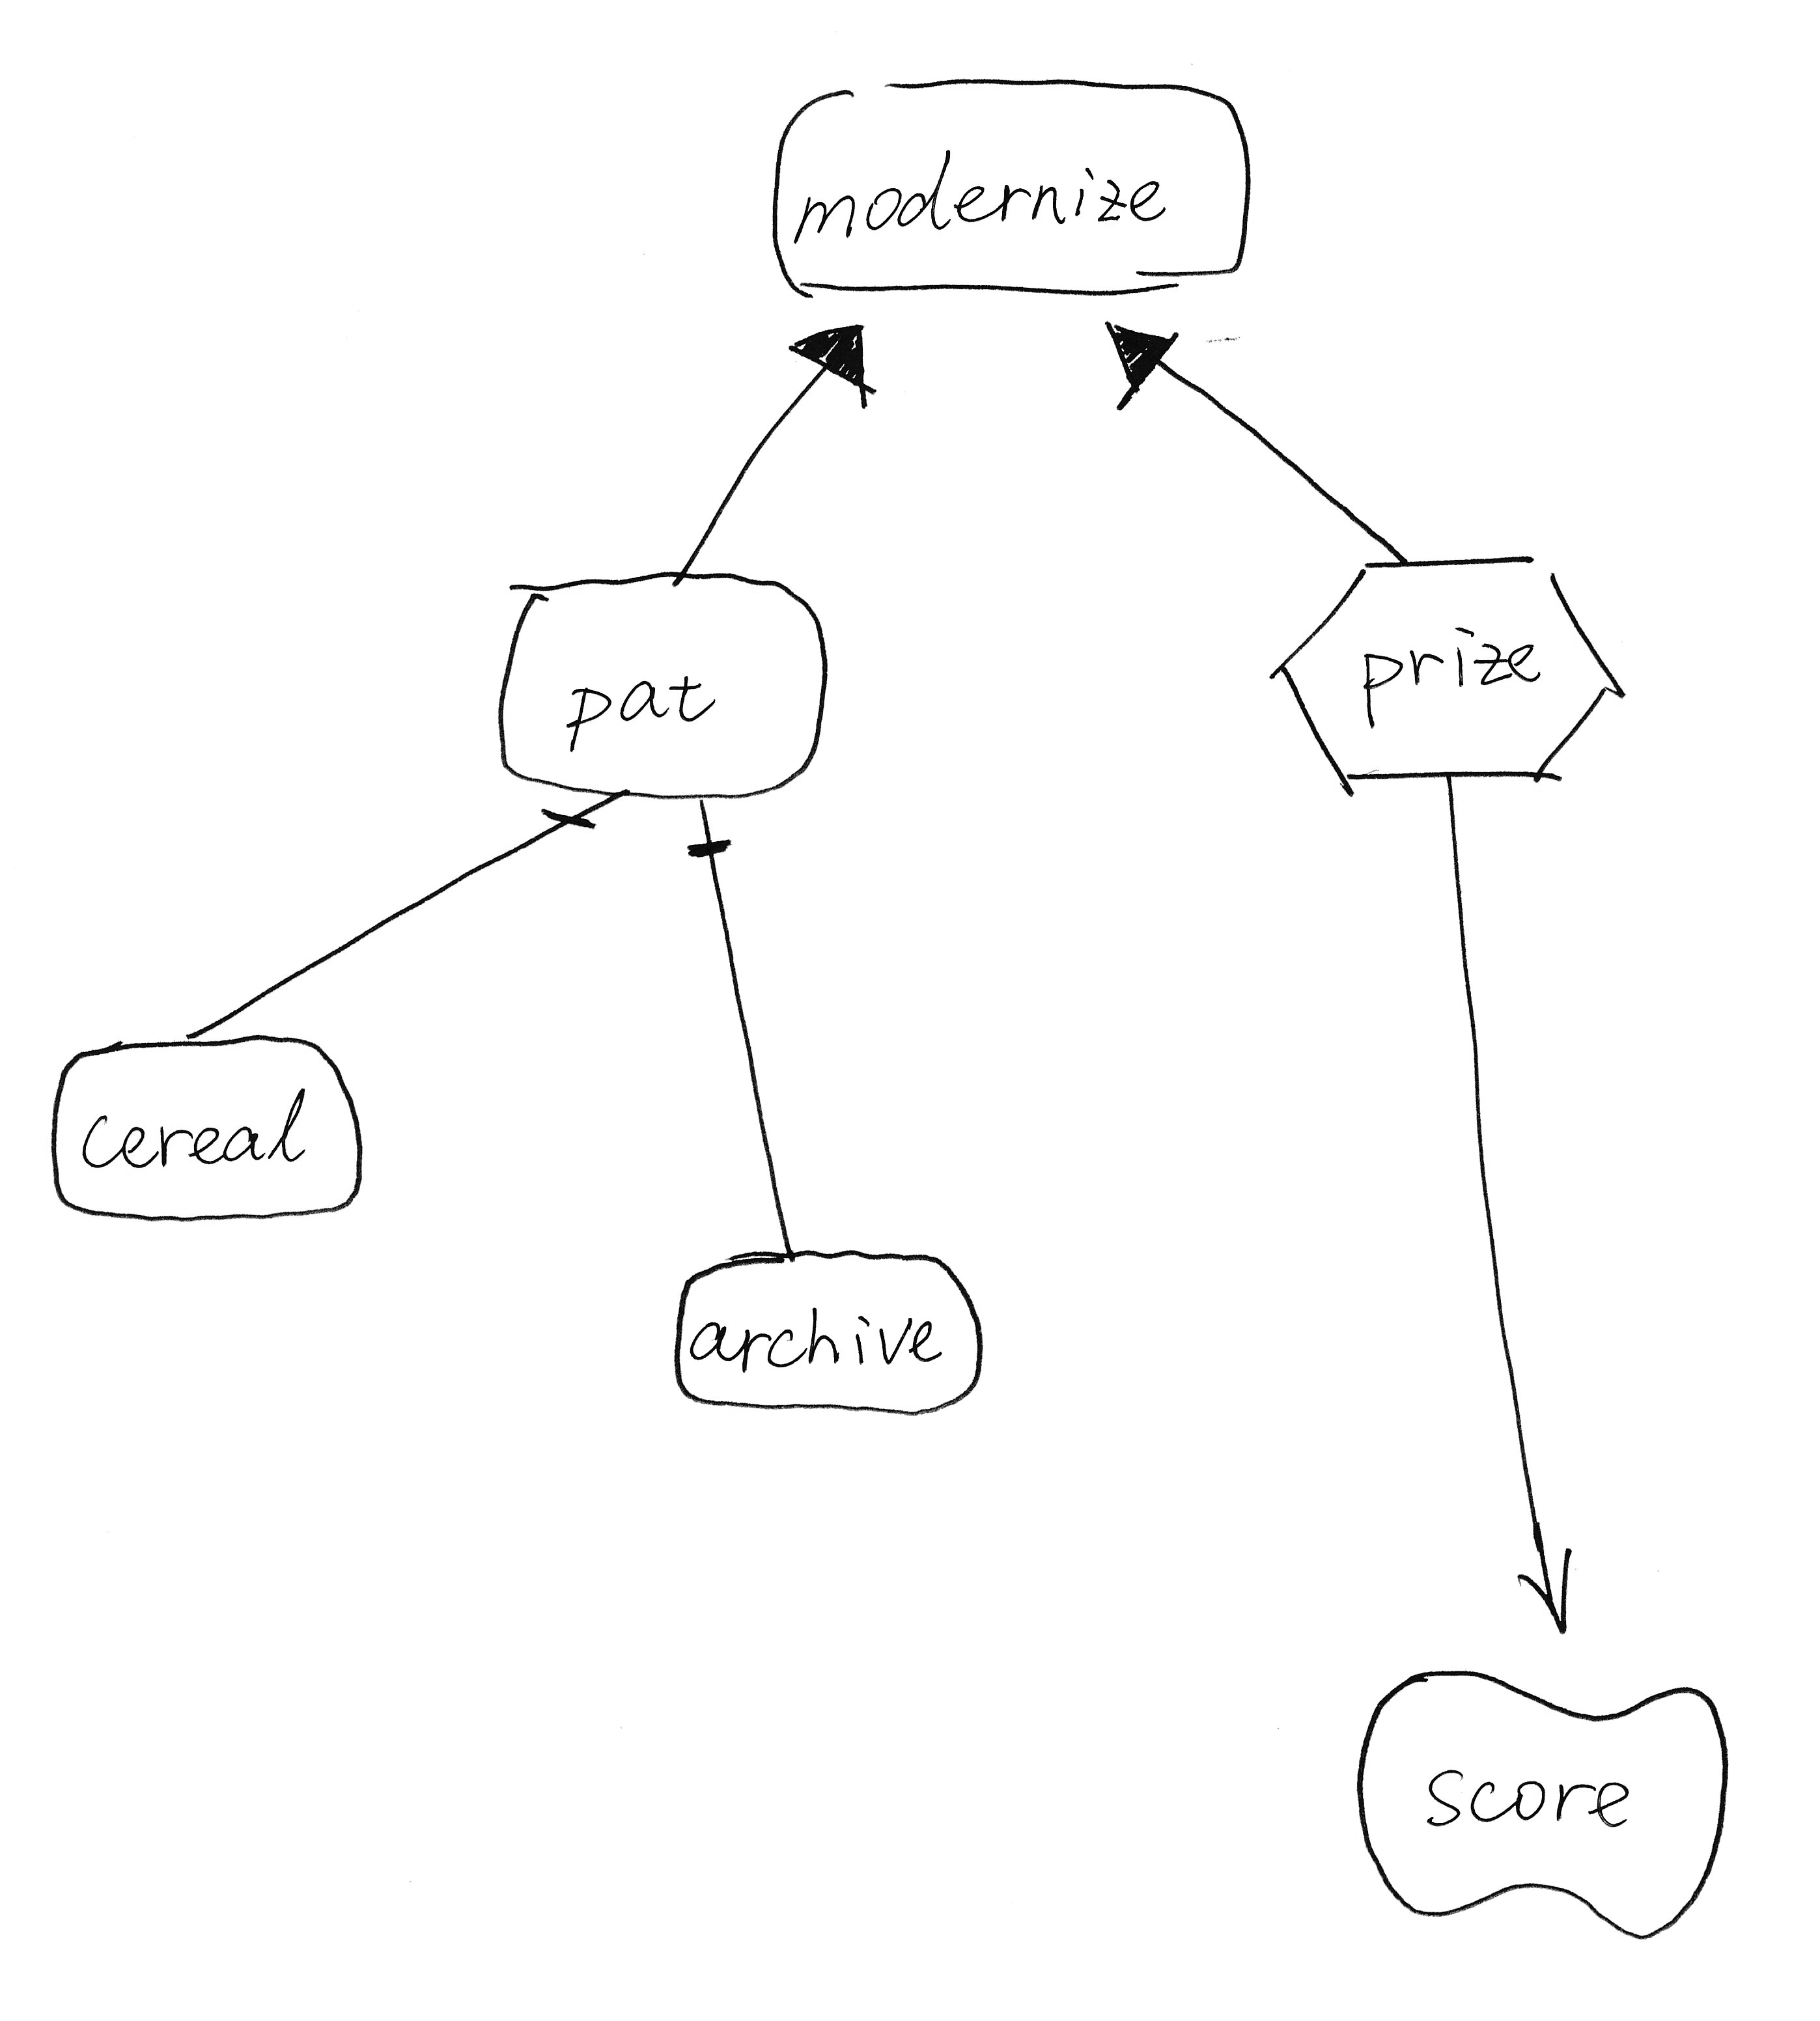and: (525, 795, 611, 857), (671, 815, 743, 878)
arrow: (1495, 1531, 1597, 1642)
goal: (748, 53, 1270, 320), (478, 546, 841, 811), (26, 1010, 390, 1236), (650, 1227, 994, 1436)
or: (780, 302, 884, 421), (1094, 302, 1188, 427)
quality: (1330, 1643, 1744, 1953)
task: (1251, 532, 1636, 813)
